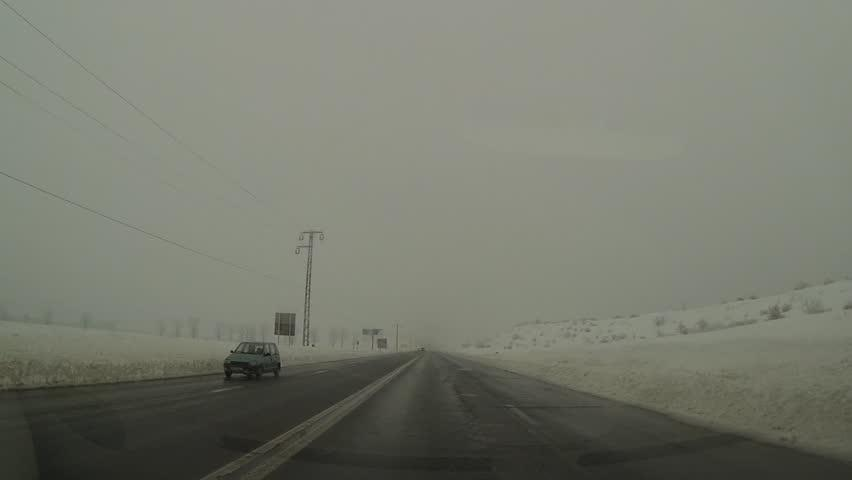airplane: (315, 340, 834, 473)
car: (357, 322, 846, 467), (223, 340, 281, 379), (800, 278, 851, 314), (801, 287, 832, 314)
person: (675, 320, 691, 334)
truck: (222, 339, 282, 380)
